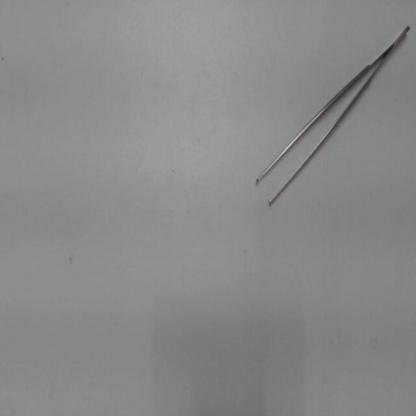Gillies Toothed Dissector: (247, 17, 412, 211)
